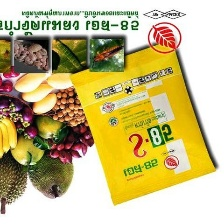insecticide: (64, 33, 221, 212)
